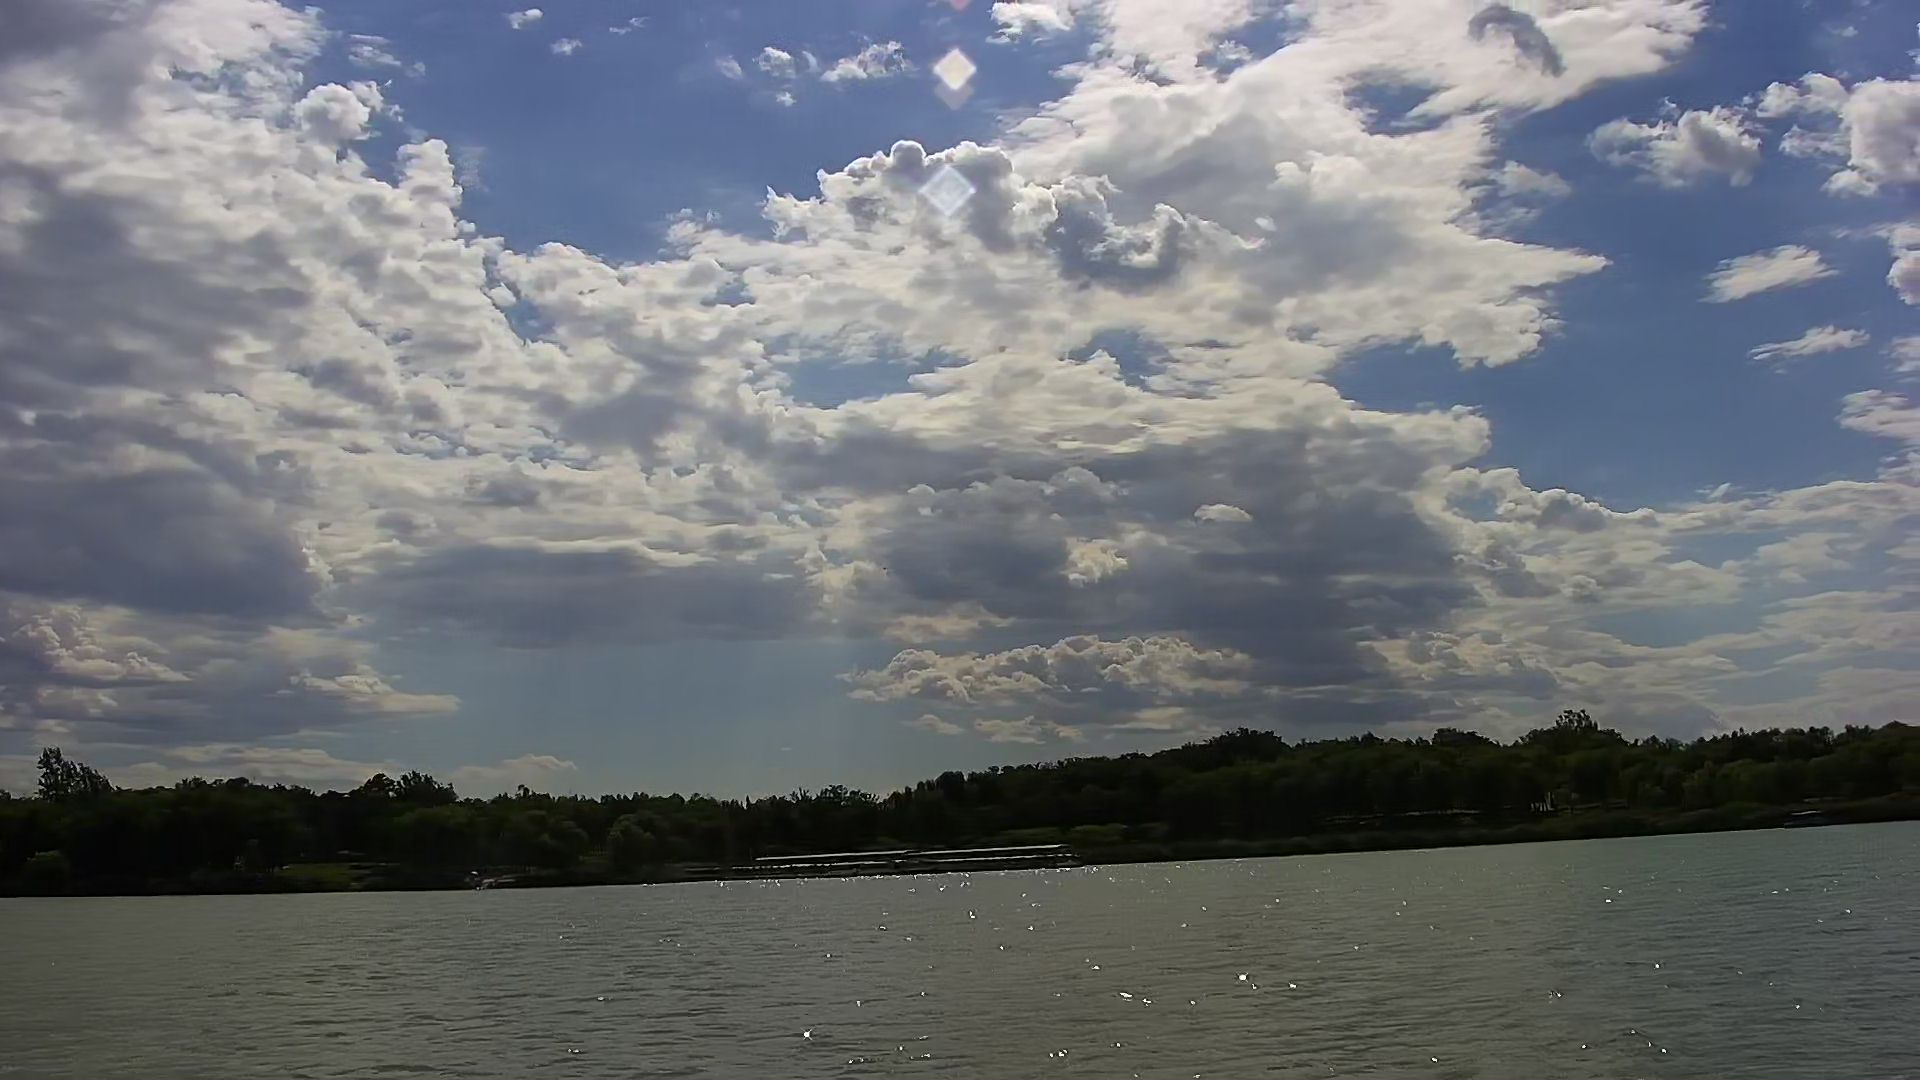harbor: (742, 836, 1077, 881)
